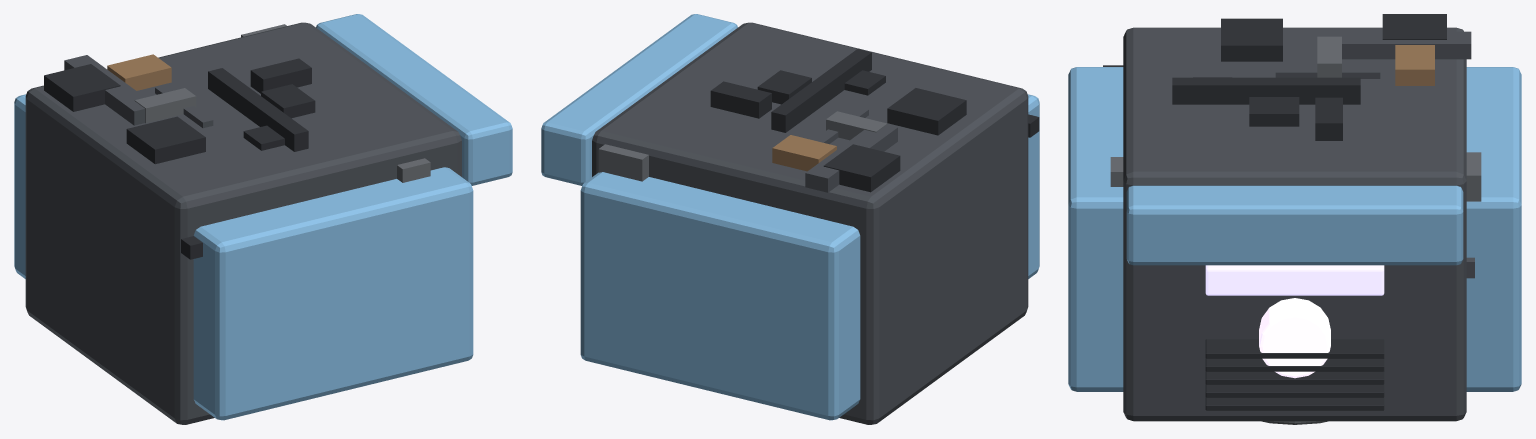
File: module_head_heavy.fbx
3 renders of one model, left to right at view 1: azimuth 30°, elevation 25°; view 2: azimuth 150°, elevation 25°; view 3: azimuth 270°, elevation 25°, orthographic. The views are drawn at different scales.
Visible parts, largest first — view 1: SM_Module_HeadHeavy; view 2: SM_Module_HeadHeavy; view 3: SM_Module_HeadHeavy.
Boxes of the visible parts, box(x1,y1,x2,y2) form: SM_Module_HeadHeavy: box(14, 14, 512, 424); SM_Module_HeadHeavy: box(541, 14, 1039, 424); SM_Module_HeadHeavy: box(1068, 14, 1521, 424).
Size of what is drawn, in the model's own units: 49.5 by 39.96 by 52.8.
